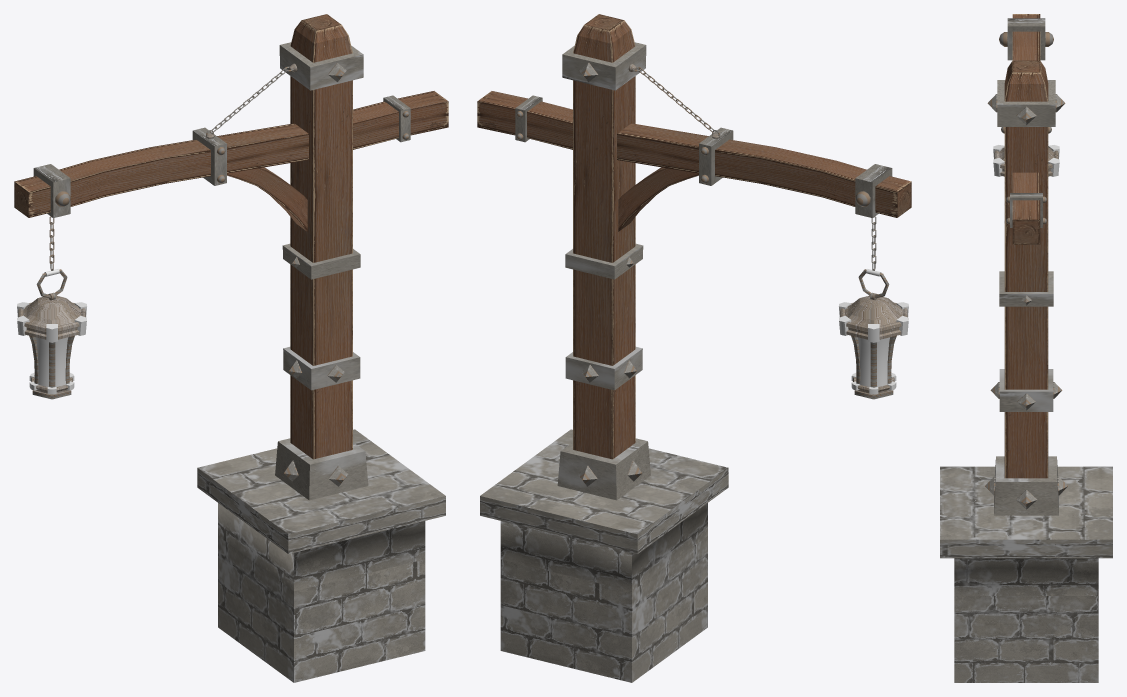
File: dddf.fbx
3 views of the same model, side by side, from view 1: azimuth 30°, elevation 25°; view 2: azimuth 150°, elevation 25°; view 3: azimuth 270°, elevation 25° (orthographic). The views are drawn at different scales.
Visible parts, largest first — view 1: Object022, Box583, Box588, Box590, Cylinder052, Object017, Box589, Cylinder053, Box597; view 2: Object022, Box583, Box588, Box590, Cylinder052, Object017, Box589, Cylinder053, Box597; view 3: Object022, Box583, Box590, Box588, Object017, Box597, Cylinder052.
Boxes of the visible parts, x1,y1,x2,y2 form: Object022: (197, 429, 445, 682); Box583: (290, 14, 352, 459); Box588: (14, 91, 448, 217); Box590: (33, 42, 410, 500); Cylinder052: (18, 295, 85, 387); Object017: (36, 63, 409, 486); Box589: (227, 167, 307, 231); Cylinder053: (36, 337, 67, 386); Box597: (17, 302, 86, 394); Object022: (480, 429, 728, 682); Box583: (573, 14, 635, 459); Box588: (477, 91, 911, 217); Box590: (515, 42, 892, 500); Cylinder052: (840, 295, 907, 387); Object017: (516, 63, 889, 486); Box589: (618, 167, 698, 231); Cylinder053: (858, 337, 889, 386); Box597: (839, 302, 908, 394); Object022: (940, 466, 1112, 682); Box583: (1004, 60, 1048, 478); Box590: (994, 18, 1058, 515); Box588: (1012, 14, 1040, 244); Object017: (985, 32, 1067, 509); Box597: (993, 145, 1059, 176); Cylinder052: (994, 147, 1058, 176).
Size of the model in its own units: 64.6 by 89.75 by 24.01.
